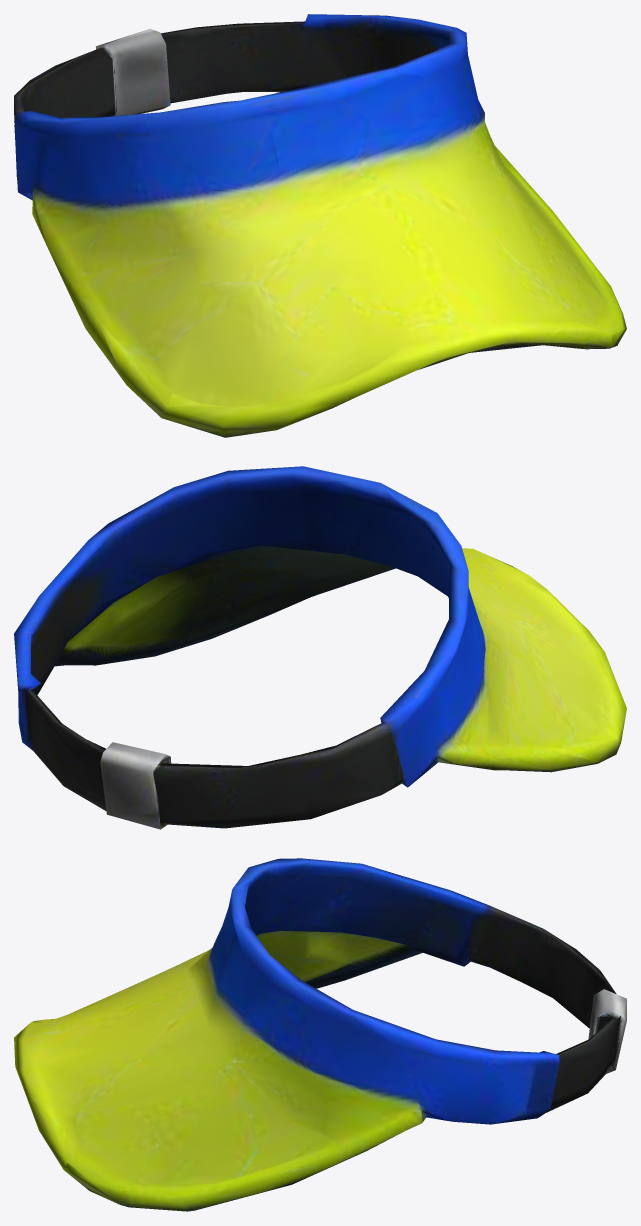
File: viseira.glb
The picture shows the model from 3 angles, top to bottom: view 1: azimuth 30°, elevation 25°; view 2: azimuth 150°, elevation 25°; view 3: azimuth 270°, elevation 25°; orthographic projection. The views are drawn at different scales.
Visible parts, largest first — view 1: tripo_node_365033e0-80b3-455b-bf25-a2f8b17b7664; view 2: tripo_node_365033e0-80b3-455b-bf25-a2f8b17b7664; view 3: tripo_node_365033e0-80b3-455b-bf25-a2f8b17b7664.
Part boxes in pixels (x1,y1,x2,y2): tripo_node_365033e0-80b3-455b-bf25-a2f8b17b7664: (14,14,626,437); tripo_node_365033e0-80b3-455b-bf25-a2f8b17b7664: (14,466,626,829); tripo_node_365033e0-80b3-455b-bf25-a2f8b17b7664: (14,858,626,1211).
Bounding box in the file's own units: 0.7598 × 0.3988 × 1.
1 material, 1 textured.
